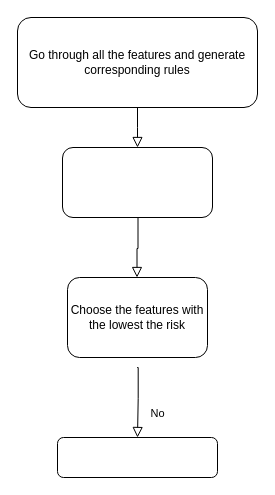
Image size: 275x495. Some labels were removed from this diagram. Each missing label, with the centre of its shape:
"Apply the feature and its rule for classification" belongs at [137,457].
"Calculate risks based on each features" belongs at [137,182].
